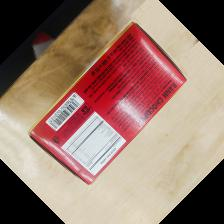Chocopie: (28, 20, 189, 187)
